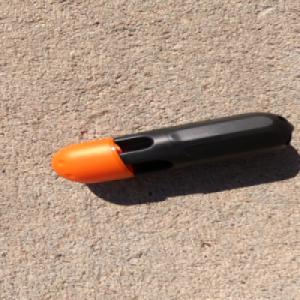PlasticPart: (50, 110, 293, 182)
